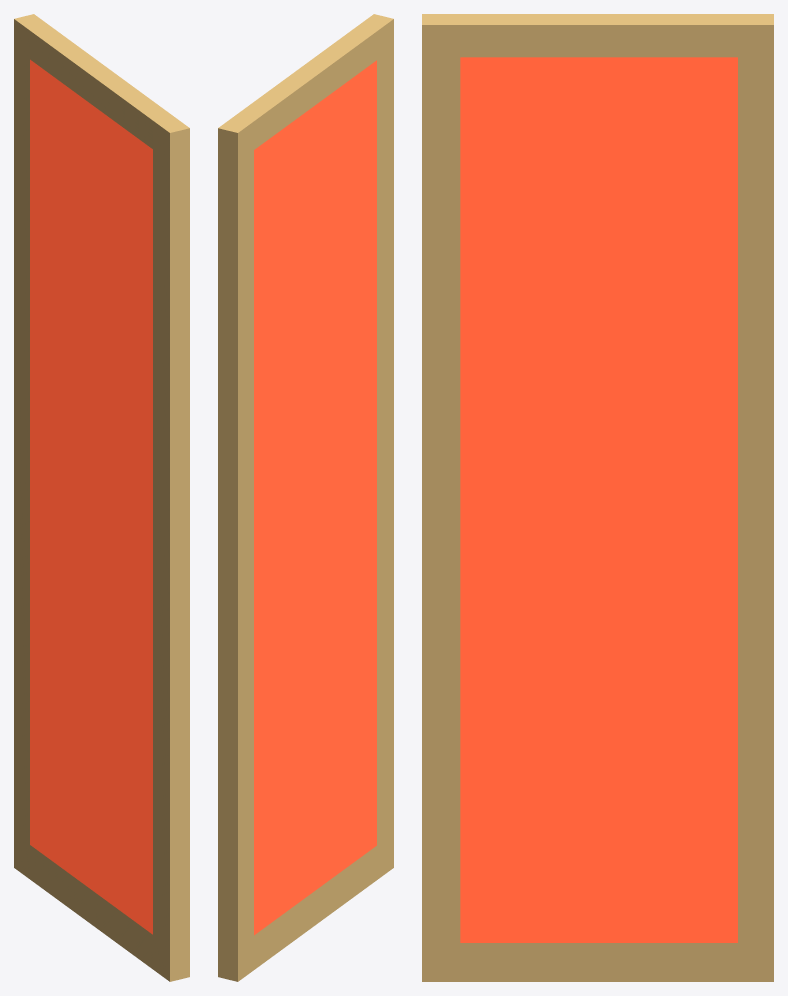
File: single.fbx
3 views of the same model, side by side, from view 1: azimuth 30°, elevation 25°; view 2: azimuth 150°, elevation 25°; view 3: azimuth 270°, elevation 25° (orthographic). The views are drawn at different scales.
Parts seen in each view (by area): view 1: Cube.035; view 2: Cube.035; view 3: Cube.035.
Part boxes in pixels (<box>): Cube.035: <box>14,14,189,981</box>; Cube.035: <box>218,14,393,981</box>; Cube.035: <box>422,14,773,981</box>.
Size of the model in its own units: 9.97 by 405 by 135.
